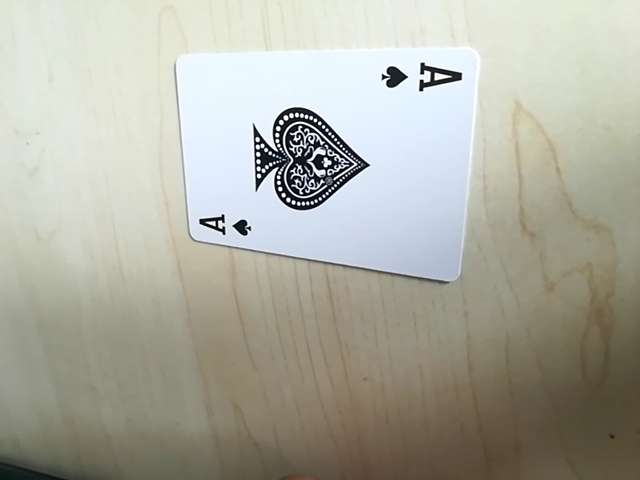ht a: (377, 55, 463, 99), (188, 209, 257, 246)
